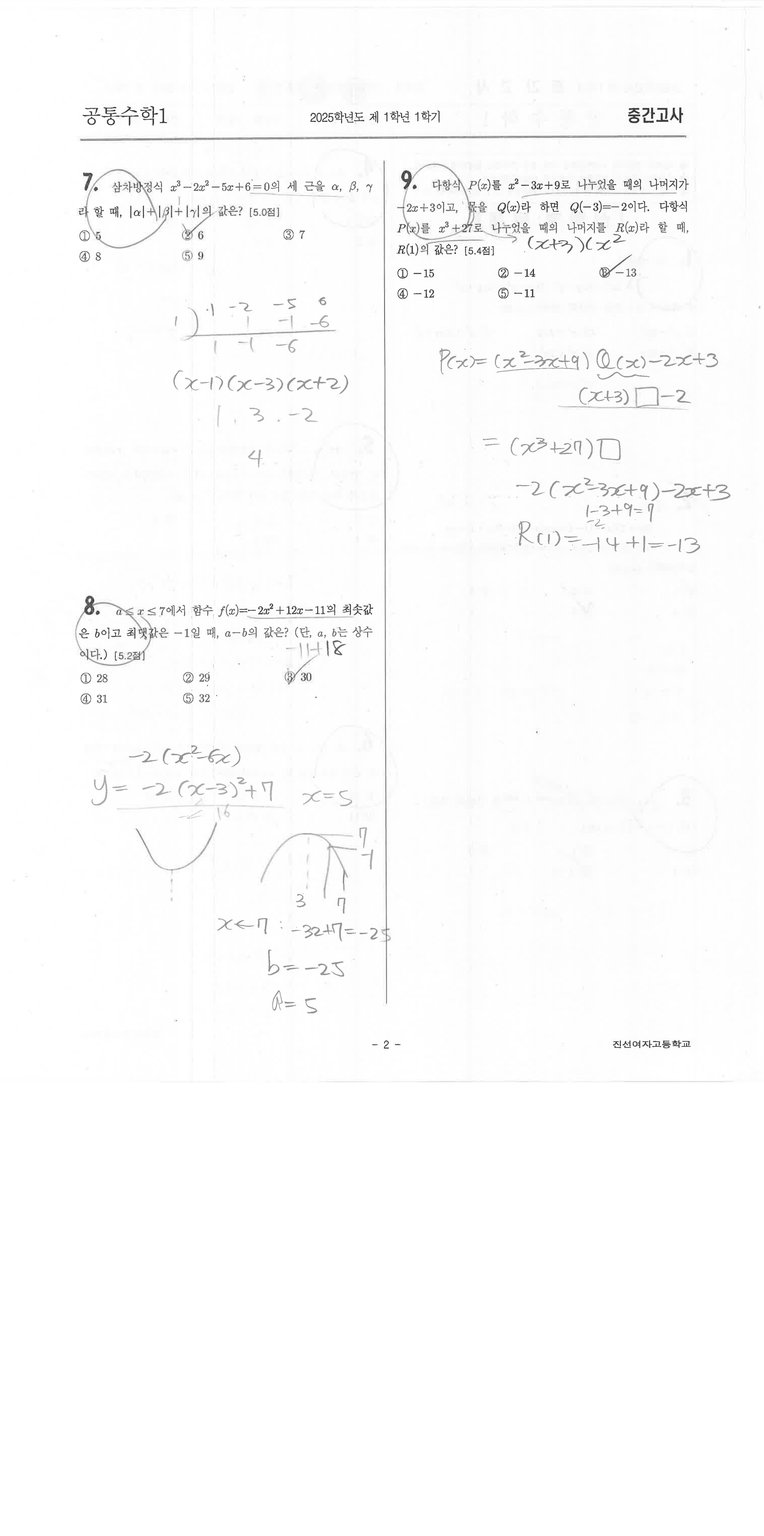problem: (387, 163, 707, 307), (73, 582, 375, 715), (68, 160, 376, 268)
